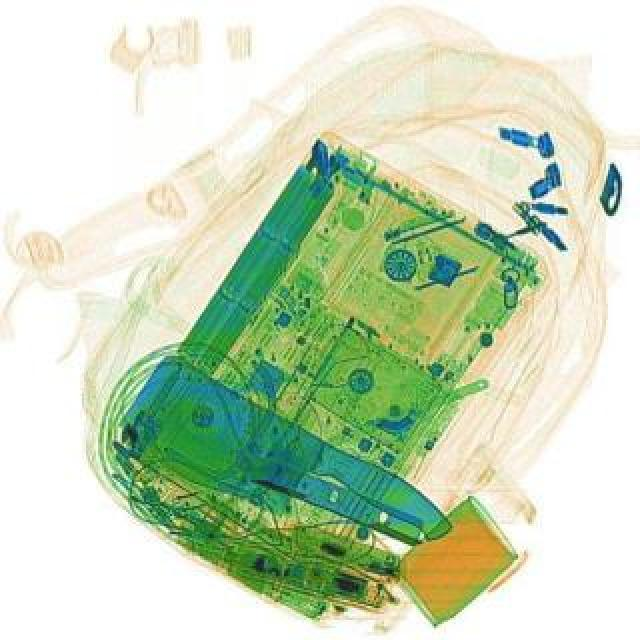knife: (112, 346, 460, 594)
